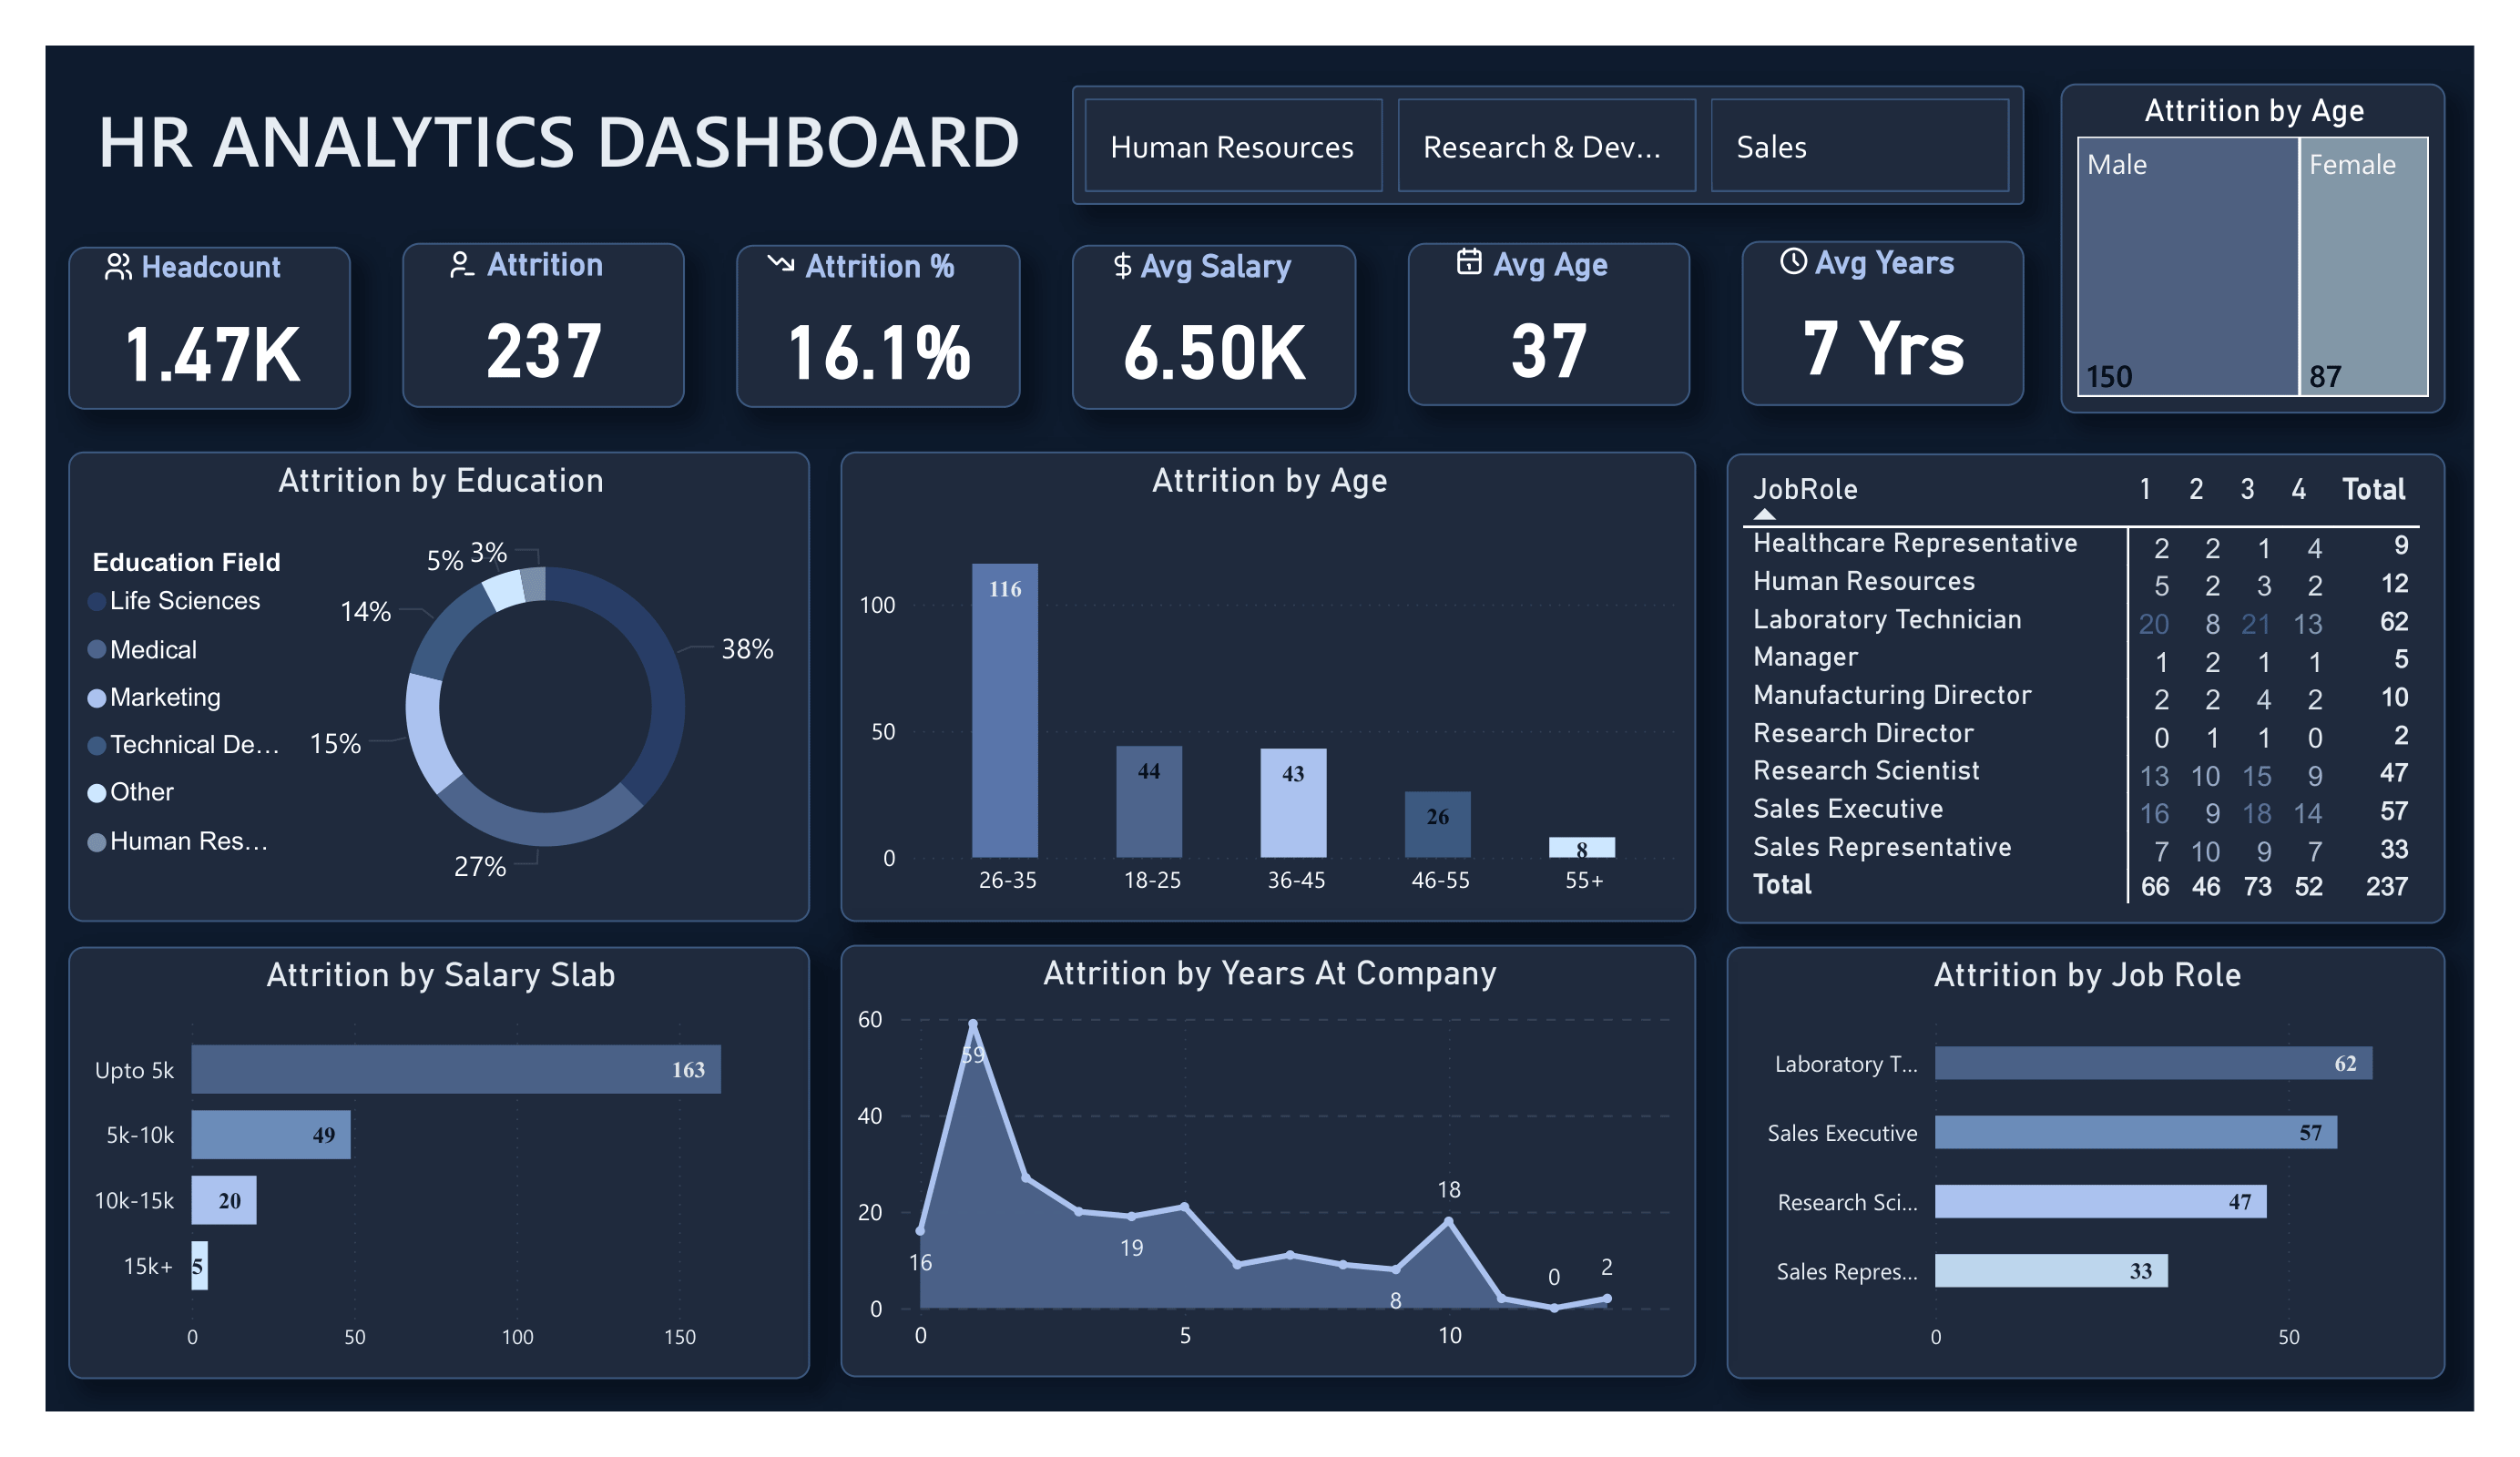

Layout of this report page (visuals, bound fields, positions):
{"tool":"powerbi","page":{"name":"Page 1","canvas":[1280,720],"ordinal":0},"visuals":[{"type":"cardVisual","title":"Avg Salary","fields":{"Data":["Avg(HR_Analytics.MonthlyIncome)"]},"box":[540.7,105.4,149.6,86.7],"z":0,"group":"g1"},{"type":"donutChart","title":"Attrition by Education","fields":{"Y":["Sum(HR_Analytics.AttritionCount)"],"Category":["HR_Analytics.EducationField"]},"box":[12.1,213.6,390.9,248.5],"z":0,"group":"g2"},{"type":"treemap","title":"Attrition by Age","fields":{"Group":["HR_Analytics.Gender"],"Values":["Sum(HR_Analytics.AttritionCount)"]},"box":[1062.4,20.4,202.3,173.4],"z":1000},{"type":"cardVisual","title":"    Attrition %","fields":{"Data":["HR_Analytics.AttritionRate"]},"box":[364,104.9,149.6,86.7],"z":1000,"group":"g1"},{"type":"cardVisual","title":"Attrition","fields":{"Data":["Sum(HR_Analytics.AttritionCount)"]},"box":[187.8,104.3,149,86.7],"z":2000,"group":"g1"},{"type":"columnChart","title":"Attrition by Age","fields":{"Y":["Sum(HR_Analytics.AttritionCount)"],"Category":["HR_Analytics.AgeGroup"]},"box":[419.1,213.6,451.1,248],"z":2000,"group":"g2"},{"type":"advancedSlicerVisual","title":"Attrition by Age","fields":{"Values":["HR_Analytics.Department"]},"box":[540.7,20.6,502.5,63.2],"z":3000},{"type":"cardVisual","title":"Avg Years","fields":{"Data":["HR_Analytics.Average Years Display"]},"box":[894.1,103.3,149,86.7],"z":3000,"group":"g1"},{"type":"textbox","box":[0,19.1,540.7,64.7],"z":4000},{"type":"cardVisual","title":"Headcount","fields":{"Data":["CountNonNull(HR_Analytics.EmpID)"]},"box":[11.7,105.9,149,86],"z":4000,"group":"g1"},{"type":"cardVisual","title":"Avg Age","fields":{"Data":["Avg(HR_Analytics.Age)"]},"box":[717.4,103.8,149.6,86.7],"z":5000,"group":"g1"},{"type":"pivotTable","title":"Attrition by Age","fields":{"Rows":["HR_Analytics.JobRole"],"Columns":["HR_Analytics.JobSatisfaction"],"Values":["Sum(HR_Analytics.AttritionCount)"]},"box":[886,214.2,379.1,248],"z":5000,"group":"g2"},{"type":"image","box":[548.9,107.9,36.4,15.9],"z":6000,"group":"g1"},{"type":"barChart","title":"Attrition by Salary Slab","fields":{"Category":["HR_Analytics.SalarySlab"],"Y":["Sum(HR_Analytics.AttritionCount)"]},"box":[12.1,474.2,390.9,228],"z":6000,"group":"g2"},{"type":"image","box":[730.7,105.6,38.6,17],"z":7000,"group":"g1"},{"type":"barChart","title":"Attrition by Job Role","fields":{"Y":["Sum(HR_Analytics.AttritionCount)"],"Category":["HR_Analytics.JobRole"]},"box":[886.3,474.2,378.8,228.8],"z":7000,"group":"g2"},{"type":"image","box":[903.4,105.6,35.2,17],"z":8000,"group":"g1"},{"type":"image","box":[20.6,108.7,33.8,16.2],"z":9000,"group":"g1"},{"type":"areaChart","title":"Attrition by Years At Company","fields":{"Y":["Sum(HR_Analytics.AttritionCount)"],"Category":["HR_Analytics.YearsAtCompany"]},"box":[419.5,473.7,450.2,228],"z":9000,"group":"g2"},{"type":"image","box":[202,107.2,31.6,17],"z":10000,"group":"g1"},{"type":"image","box":[365.2,105.9,44.1,17],"z":11000,"group":"g1"},{"type":"group","id":"g1","title":"Group 2","box":[11.7,103.3,1031.4,88.8],"z":11002},{"type":"group","id":"g2","title":"Group 1","box":[12.1,213.6,1253,489.4],"z":11003}]}

Visuals, with their boxes in screenshot pixels (x1, y1, x2, y2):
"Avg Salary" cardVisual: select_region(1063, 244, 1353, 413)
"Attrition by Education" donutChart: select_region(36, 454, 796, 936)
"Attrition by Age" treemap: select_region(2076, 79, 2469, 415)
"    Attrition %" cardVisual: select_region(719, 243, 1010, 412)
"Attrition" cardVisual: select_region(378, 242, 667, 410)
"Attrition by Age" columnChart: select_region(827, 454, 1703, 935)
"Attrition by Age" advancedSlicerVisual: select_region(1063, 79, 2038, 202)
"Avg Years" cardVisual: select_region(1749, 239, 2038, 408)
textbox: select_region(13, 76, 1063, 202)
"Headcount" cardVisual: select_region(36, 245, 325, 412)
"Avg Age" cardVisual: select_region(1406, 241, 1697, 409)
"Attrition by Age" pivotTable: select_region(1733, 455, 2469, 937)
image: select_region(1079, 249, 1149, 280)
"Attrition by Salary Slab" barChart: select_region(36, 960, 796, 1402)
image: select_region(1432, 244, 1506, 278)
"Attrition by Job Role" barChart: select_region(1734, 960, 2469, 1404)
image: select_region(1767, 244, 1835, 278)
image: select_region(53, 250, 118, 281)
"Attrition by Years At Company" areaChart: select_region(828, 959, 1701, 1401)
image: select_region(405, 248, 466, 280)
image: select_region(722, 245, 808, 278)
"Group 2" group: select_region(36, 239, 2038, 413)
"Group 1" group: select_region(36, 454, 2469, 1404)
